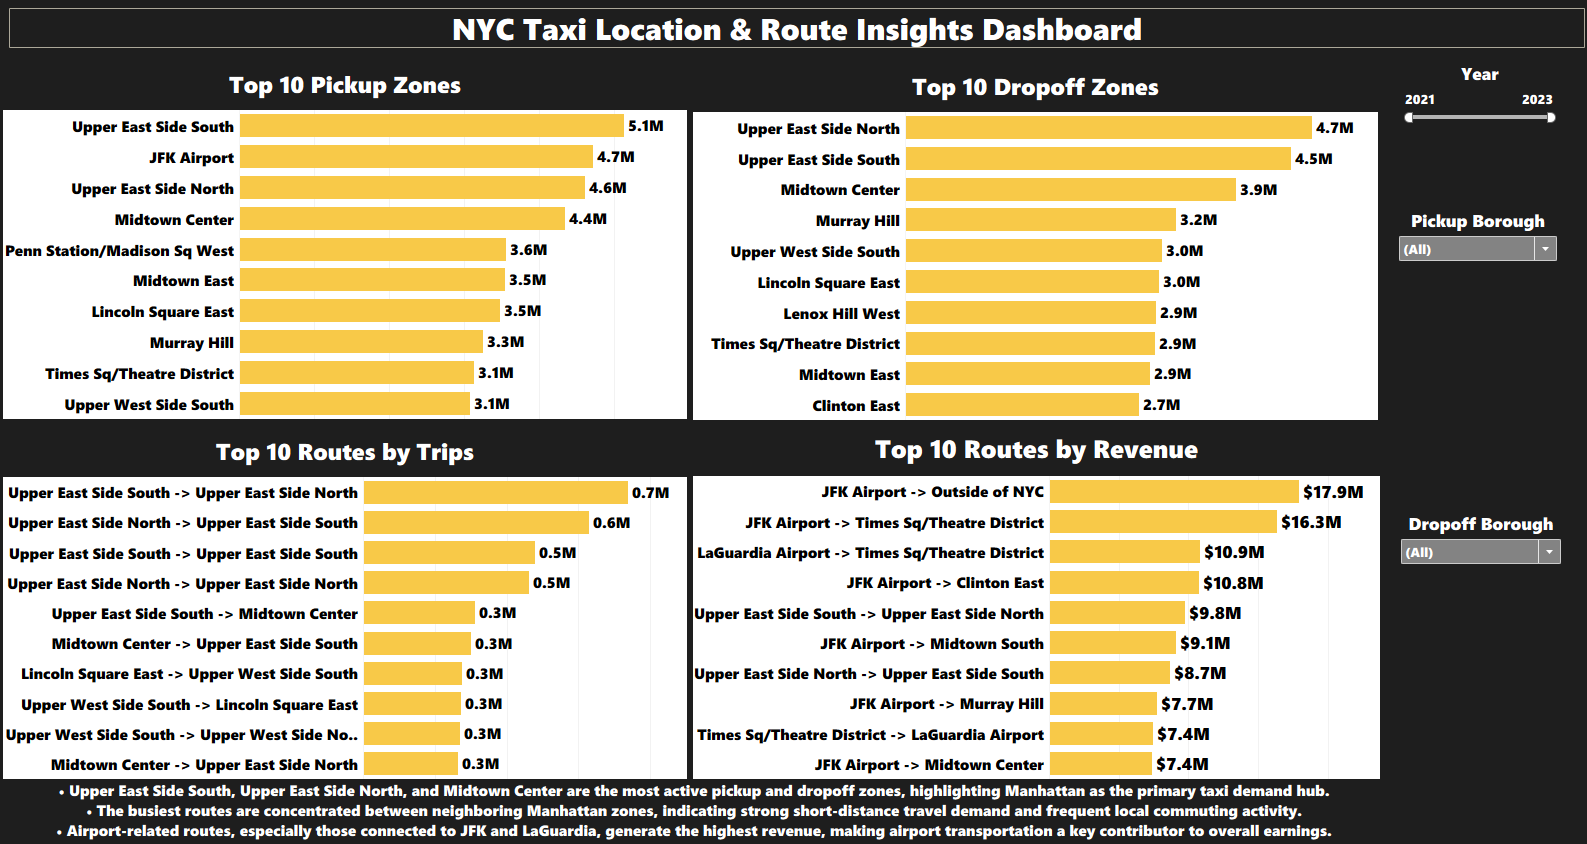

The dashboard page shown, as its layout file describes it:
{"tool":"tableau","page":{"name":"NYC Taxi Location & Route Insights Dashboard","canvas":[1600,900],"ordinal":2},"visuals":[{"type":"title","box":[8,8,1584,48]},{"type":"filter","title":"Top 10 Routes by Trips","param":"[federated.1gqoiu10hzd73p16axawn1ip6ucj].[none:YEAR:qk]","box":[1403,66,160,125]},{"type":"worksheet","title":"Top 10 Pickup Zones","mark":"Automatic","rows":["PICKUP_ZONE"],"cols":["Calculation_2080281158668295"],"box":[6,68,684,355]},{"type":"worksheet","title":"Top 10 Dropoff Zones","mark":"Automatic","rows":["DROPOFF_ZONE"],"cols":["Calculation_2080281158668295"],"box":[696,70,685,354]},{"type":"filter","title":"Top 10 Routes by Trips","param":"[federated.1gqoiu10hzd73p16axawn1ip6ucj].[none:PICKUP_BOROUGH:nk]","box":[1399,213,164,295]},{"type":"worksheet","title":"Top 10 Routes by Revenue","mark":"Automatic","rows":["ROUTE"],"cols":["Calculation_2080281159577608"],"box":[696,431,687,352]},{"type":"worksheet","title":"Top 10 Routes by Trips","mark":"Automatic","rows":["ROUTE"],"cols":["Calculation_2080281158668295"],"box":[6,435,684,348]},{"type":"filter","title":"Top 10 Routes by Trips","param":"[federated.1gqoiu10hzd73p16axawn1ip6ucj].[none:DROPOFF_BOROUGH:nk]","box":[1401,516,166,262]}]}

Visuals, with their boxes on the page's 1600x900 design canvas (x1, y1, x2, y2). These are canvas units, not pixel positions in the 1587x844 screenshot, which may show the page scaled, cropped or inside an application window:
title: left=8, top=8, right=1592, bottom=56
"Top 10 Routes by Trips" filter: left=1403, top=66, right=1563, bottom=191
"Top 10 Pickup Zones" worksheet: left=6, top=68, right=690, bottom=423
"Top 10 Dropoff Zones" worksheet: left=696, top=70, right=1381, bottom=424
"Top 10 Routes by Trips" filter: left=1399, top=213, right=1563, bottom=508
"Top 10 Routes by Revenue" worksheet: left=696, top=431, right=1383, bottom=783
"Top 10 Routes by Trips" worksheet: left=6, top=435, right=690, bottom=783
"Top 10 Routes by Trips" filter: left=1401, top=516, right=1567, bottom=778
